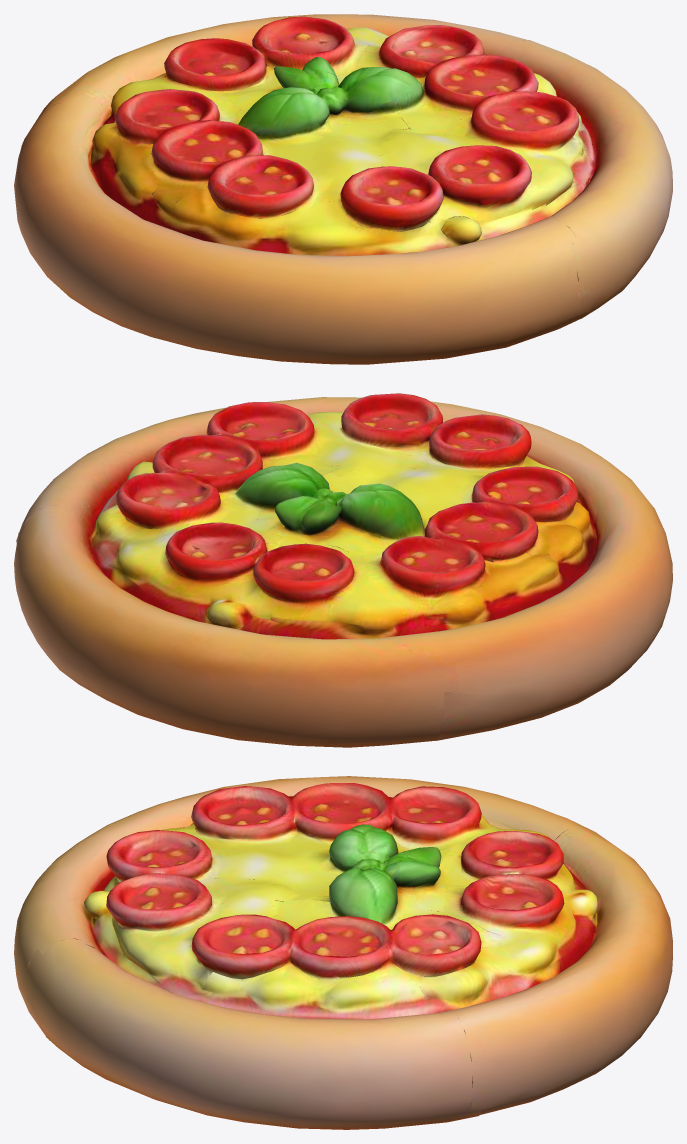
Rendered from pizza.glb.
3 views of the same model, one above another, from view 1: azimuth 30°, elevation 25°; view 2: azimuth 150°, elevation 25°; view 3: azimuth 270°, elevation 25° (orthographic).
Parts seen in each view (by area): view 1: pizza; view 2: pizza; view 3: pizza.
Boxes of the visible parts, left/top/right/bottom form: pizza: left=14, top=14, right=672, bottom=364; pizza: left=14, top=393, right=672, bottom=747; pizza: left=14, top=776, right=672, bottom=1129.
Bounding box in the file's own units: 0.4499 × 0.1118 × 0.4491.
Materials: 1 (1 with a texture image).
